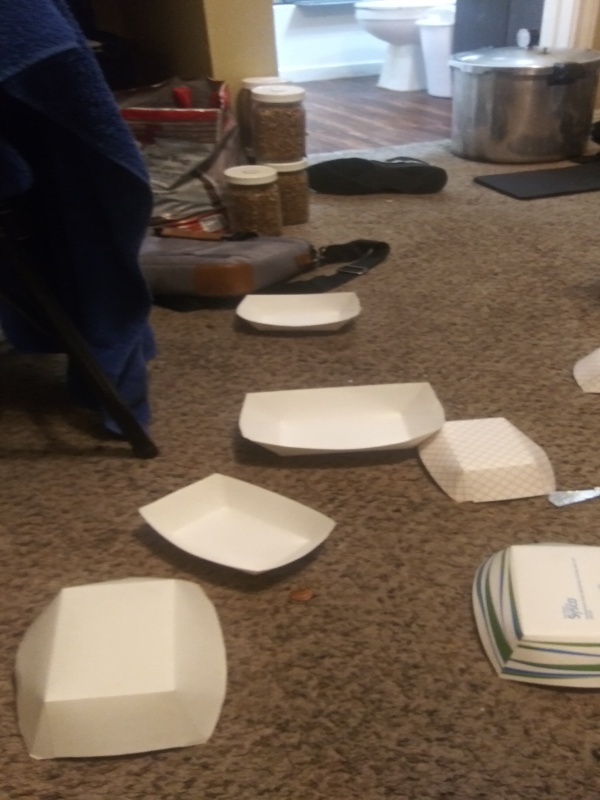plate: (10, 573, 233, 766), (133, 467, 342, 582), (471, 539, 600, 693), (238, 377, 445, 460), (413, 415, 555, 507), (228, 285, 367, 341), (567, 343, 600, 397)
